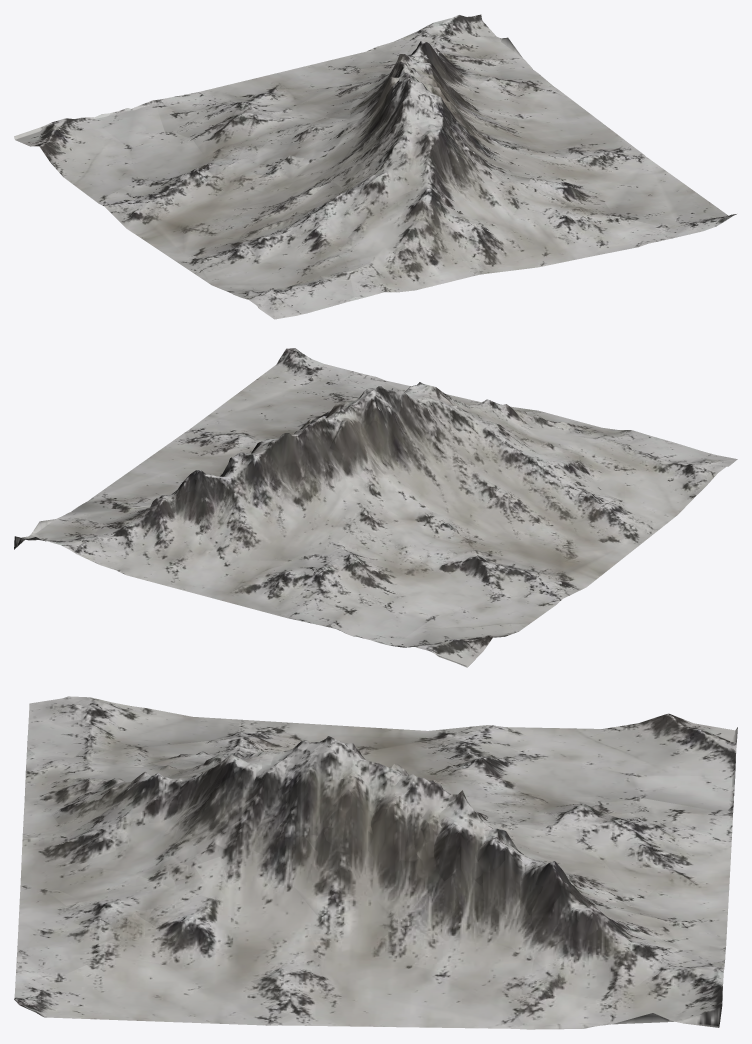
File: cst_mount.glb
The picture shows the model from 3 angles, top to bottom: view 1: azimuth 30°, elevation 25°; view 2: azimuth 150°, elevation 25°; view 3: azimuth 270°, elevation 25°; orthographic projection. The views are drawn at different scales.
Visible parts, largest first — view 1: mount; view 2: mount; view 3: mount.
Part boxes in pixels (bbox=[...]): mount: bbox=[14, 14, 736, 319]; mount: bbox=[14, 348, 737, 667]; mount: bbox=[14, 696, 737, 1029].
Bounding box in the file's own units: 143 × 33.42 × 143.
1 material, 1 textured.
